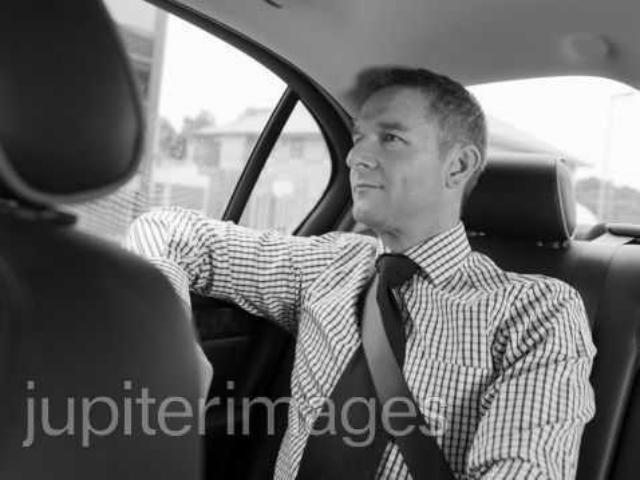SafeDriving: (374, 122, 412, 150)
Seatbelt: (356, 271, 461, 480)
